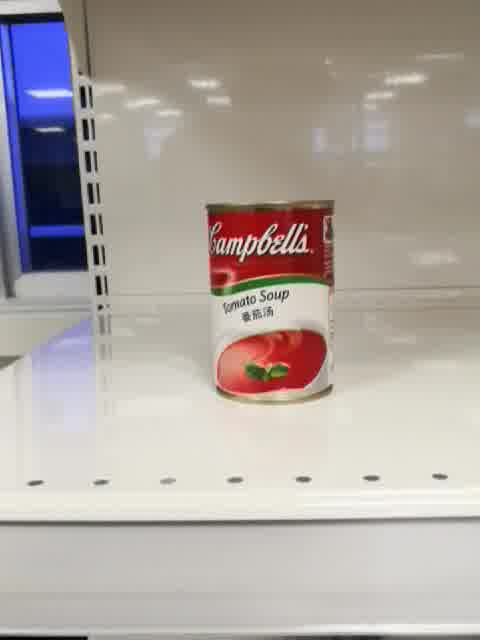tomatosoup: (204, 198, 338, 406)
